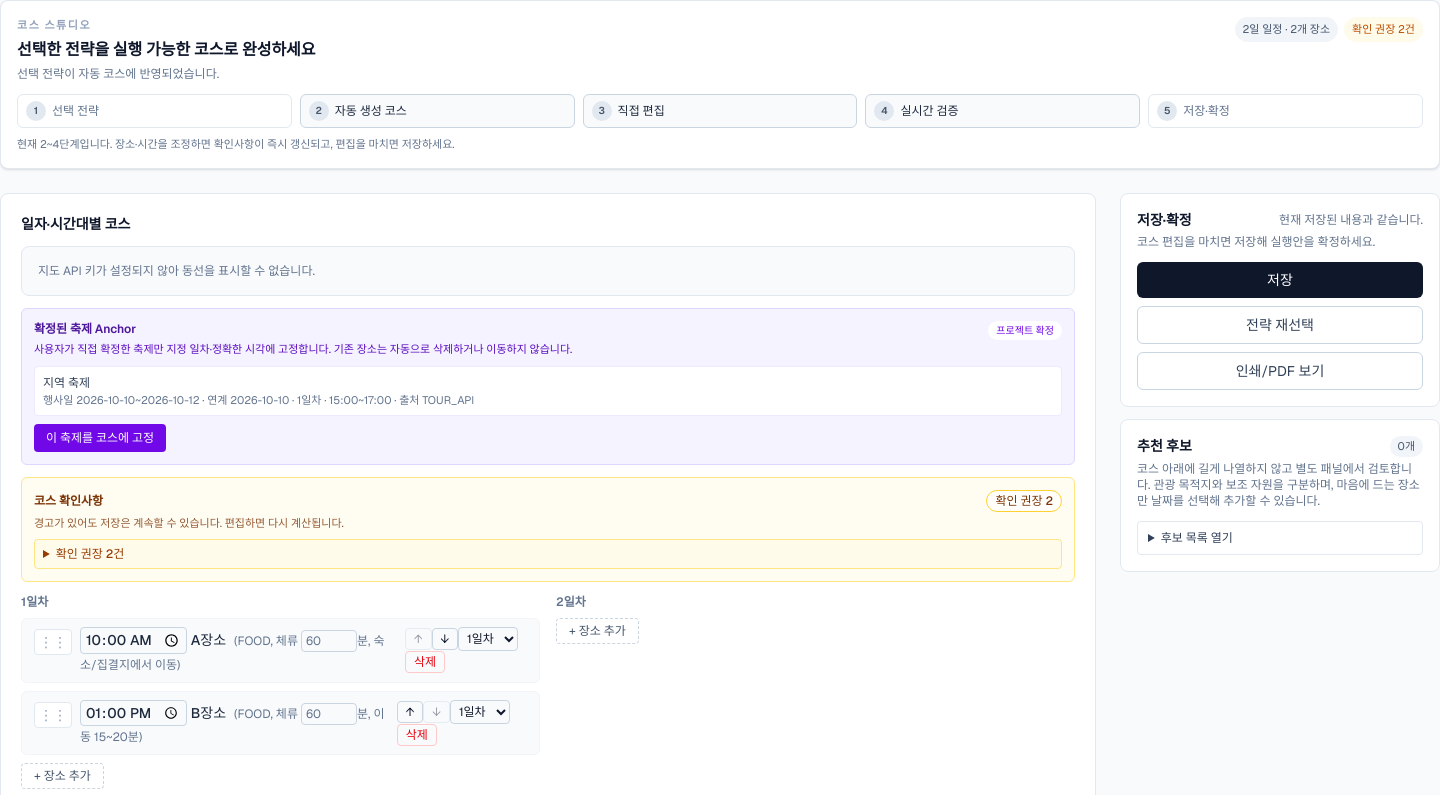
Test: PlanEditor — 확정 축제 Anchor 코스 연결(P1-2b) › 명시적으로 고정하면 기존 POI를 보존하고 Anchor는 고정 일정으로 표시한다
Click the button "이 축제를 코스에 고정" at coordinates (100, 438), box x1=34 y1=424 x2=166 y2=452
(page scrolled)
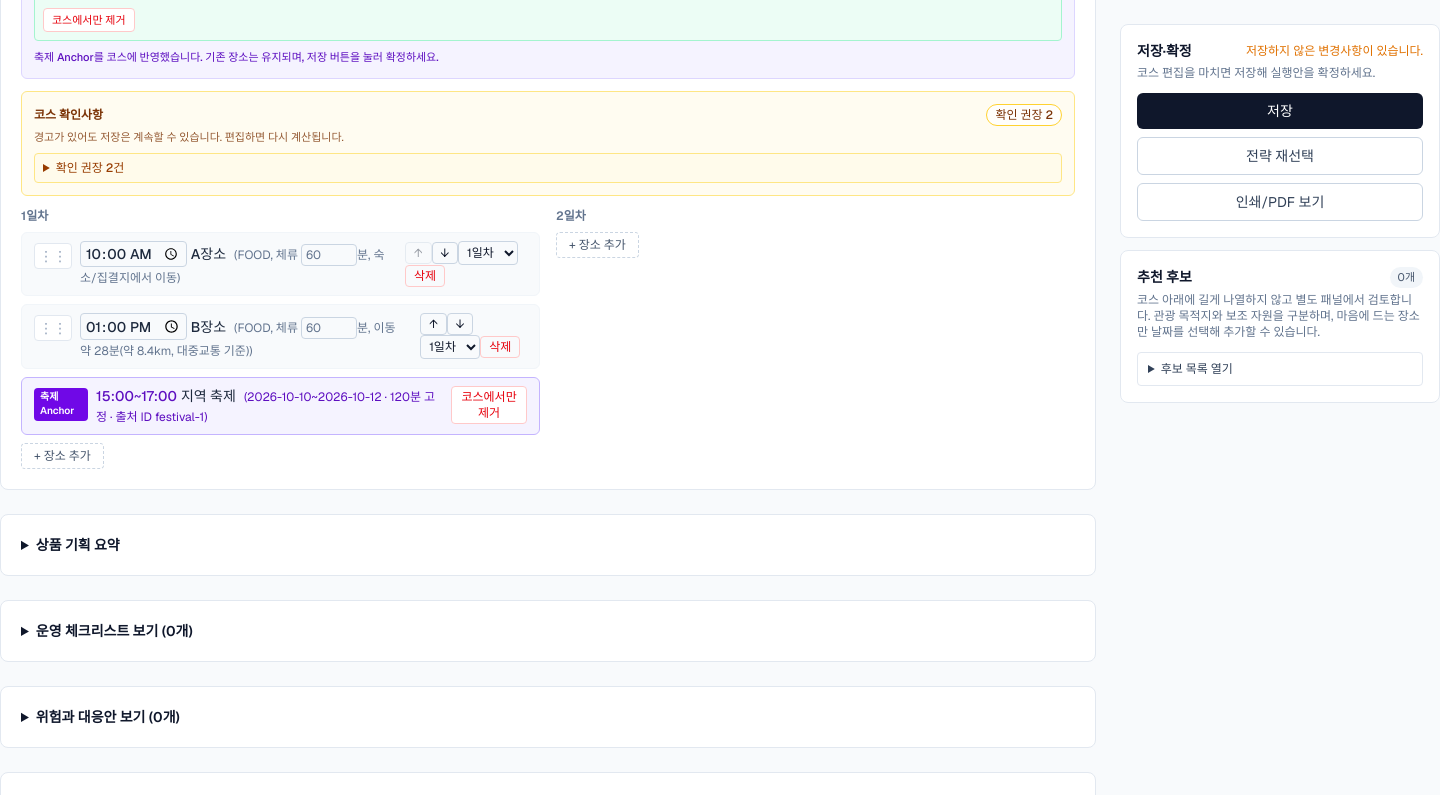
Expected: the text "A장소" is shown, x1=80 y1=245 x2=226 y2=263
Expected: the text "축제 Anchor" is shown, x1=34 y1=388 x2=88 y2=421
Expected: the button with aria-label "지역 축제 코스에서만 제거" is shown, x1=451 y1=386 x2=527 y2=424
